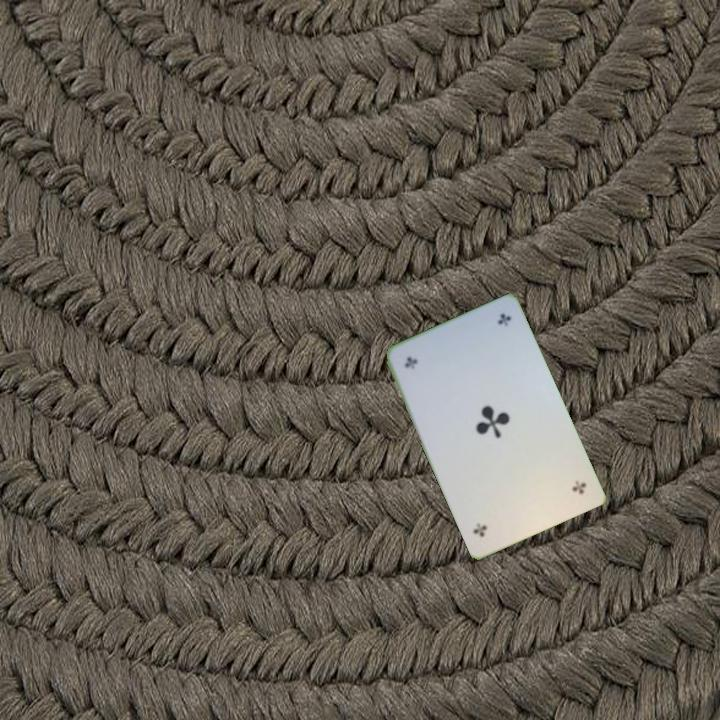c_a.png: (393, 330, 476, 408), (511, 445, 594, 523)
